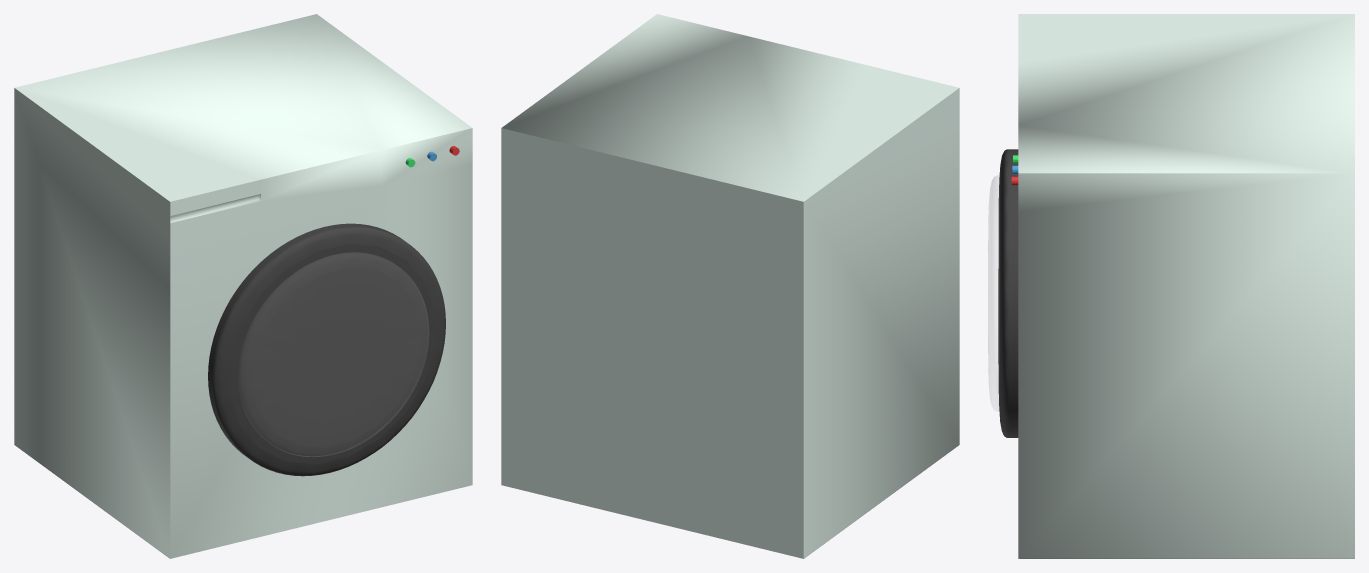
The model's file is 02WashMac.fbx.
3 views of the same model, side by side, from view 1: azimuth 30°, elevation 25°; view 2: azimuth 150°, elevation 25°; view 3: azimuth 270°, elevation 25° (orthographic). The views are drawn at different scales.
Parts seen in each view (by area): view 1: Body, Outer_Ring; view 2: Body; view 3: Body, Outer_Ring, Inner_Ring.
Part boxes in pixels (x1=…): Body: x1=14, y1=14, x2=472, y2=558; Outer_Ring: x1=208, y1=223, x2=445, y2=476; Body: x1=501, y1=14, x2=959, y2=558; Body: x1=1018, y1=14, x2=1354, y2=558; Outer_Ring: x1=998, y1=149, x2=1018, y2=437; Inner_Ring: x1=988, y1=175, x2=999, y2=411.
Size of the model in its own units: 32.78 by 36.98 by 31.88.
Materials: 6 (5 with a texture image).
